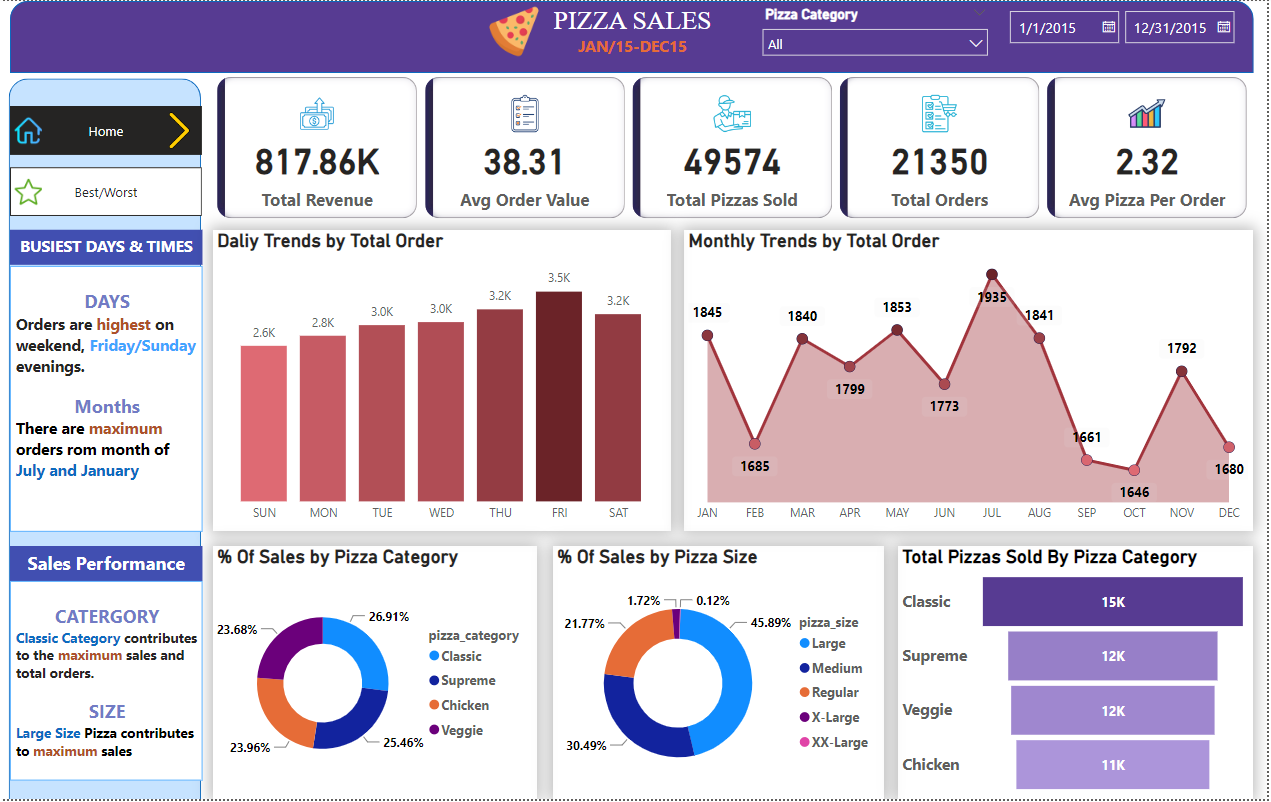

The dashboard page shown, as its layout file describes it:
{"tool":"powerbi","page":{"name":"Home","canvas":[1300,820],"ordinal":0},"visuals":[{"type":"shape","box":[9.1,79.1,197.3,740.9],"z":0},{"type":"textbox","box":[9.7,235.3,197.7,36.2],"z":1000},{"type":"cardVisual","fields":{"Data":["pizza_sales.Total Revenue","pizza_sales.Avg Order Value","pizza_sales.Total Pizzas Sold","pizza_sales.Total Orders","pizza_sales.Avg Pizza Per Order"]},"box":[218.6,73.8,1067.8,155.9],"z":2000},{"type":"shape","box":[10,0,1276.7,74],"z":3000},{"type":"textbox","box":[551.9,0,195.1,62.7],"z":4000},{"type":"image","box":[487.3,0,79.4,62.6],"z":5000},{"type":"columnChart","title":"Daliy Trends by Total Order","fields":{"Category":["pizza_sales.Order Day"],"Y":["pizza_sales.Total Orders"]},"box":[218.6,235.3,470.6,309.1],"z":6000},{"type":"areaChart","title":"Monthly Trends by Total Order","fields":{"Category":["pizza_sales.Order Month"],"Y":["pizza_sales.Total Orders"]},"box":[701.8,235.5,584.5,309.1],"z":7000},{"type":"donutChart","title":"% Of Sales  by Pizza Category","fields":{"Category":["pizza_sales.pizza_category"],"Y":["pizza_sales.Total Revenue"]},"box":[218.6,559.7,332.7,260.3],"z":8000},{"type":"donutChart","title":"% Of Sales  by Pizza Size","fields":{"Y":["pizza_sales.Total Revenue"],"Category":["pizza_sales.pizza_size"]},"box":[566.6,559.7,341.1,260.3],"z":9000},{"type":"funnel","title":"Total Pizzas Sold By Pizza Category","fields":{"Category":["pizza_sales.pizza_category"],"Y":["pizza_sales.Total Pizzas Sold"]},"box":[921.6,559.7,364.8,260.3],"z":10000},{"type":"textbox","box":[9.7,271.5,197.7,272.9],"z":11000},{"type":"textbox","box":[9.7,559.7,197.7,36.2],"z":12000},{"type":"textbox","box":[9.7,595.9,197.7,204.7],"z":13000},{"type":"slicer","fields":{"Values":["pizza_sales.pizza_category"]},"box":[772.7,0,252,73.8],"z":14000},{"type":"slicer","fields":{"Values":["pizza_sales.order_date"]},"box":[1024.7,0,252,73.8],"z":15000},{"type":"pageNavigator","box":[9.7,107.2,197.7,50.1],"z":16000},{"type":"pageNavigator","box":[9.7,171.2,197.7,50.1],"z":17000},{"type":"image","box":[160.1,107.2,47.3,50.1],"z":18000},{"type":"image","box":[9.7,107.2,37.6,50.1],"z":19000},{"type":"image","box":[9.7,171.2,37.6,50.1],"z":20000}]}

Visuals, with their boxes in screenshot pixels (x1, y1, x2, y2), scaled from the page's 1300x820 canvas onto the 1271x802 screenshot:
shape: rect(9, 77, 202, 801)
textbox: rect(9, 230, 203, 266)
cardVisual - pizza_sales.Total Revenue x pizza_sales.Avg Order Value: rect(214, 72, 1258, 225)
shape: rect(10, 0, 1258, 72)
textbox: rect(540, 0, 730, 61)
image: rect(476, 0, 554, 61)
"Daliy Trends by Total Order" columnChart: rect(214, 230, 674, 532)
"Monthly Trends by Total Order" areaChart: rect(686, 230, 1258, 533)
"% Of Sales  by Pizza Category" donutChart: rect(214, 547, 539, 801)
"% Of Sales  by Pizza Size" donutChart: rect(554, 547, 887, 801)
"Total Pizzas Sold By Pizza Category" funnel: rect(901, 547, 1258, 801)
textbox: rect(9, 266, 203, 532)
textbox: rect(9, 547, 203, 583)
textbox: rect(9, 583, 203, 783)
slicer - pizza_sales.pizza_category: rect(755, 0, 1002, 72)
slicer - pizza_sales.order_date: rect(1002, 0, 1248, 72)
pageNavigator: rect(9, 105, 203, 154)
pageNavigator: rect(9, 167, 203, 216)
image: rect(157, 105, 203, 154)
image: rect(9, 105, 46, 154)
image: rect(9, 167, 46, 216)
